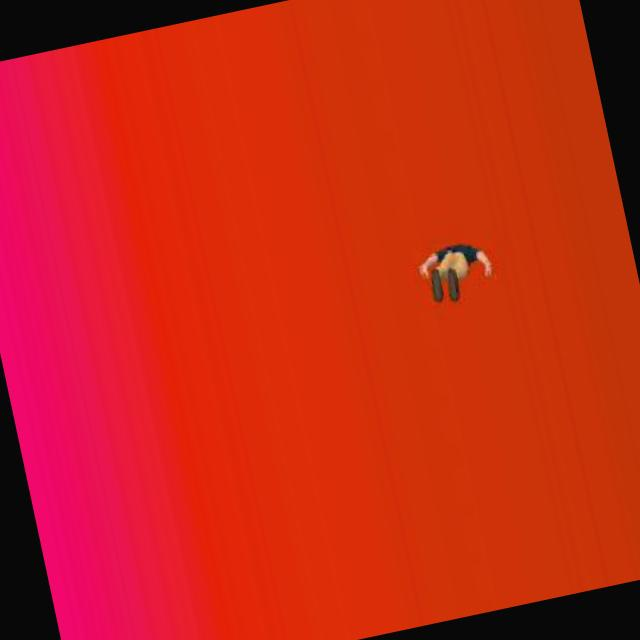Person: (410, 229, 502, 310)
